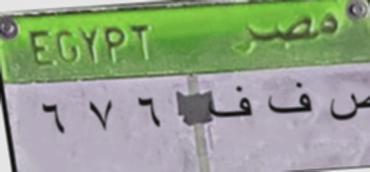6: (135, 94, 166, 132), (38, 102, 70, 138)
7: (86, 98, 115, 136)
faa: (260, 78, 316, 125), (202, 86, 253, 124)
saad: (326, 81, 370, 123)
